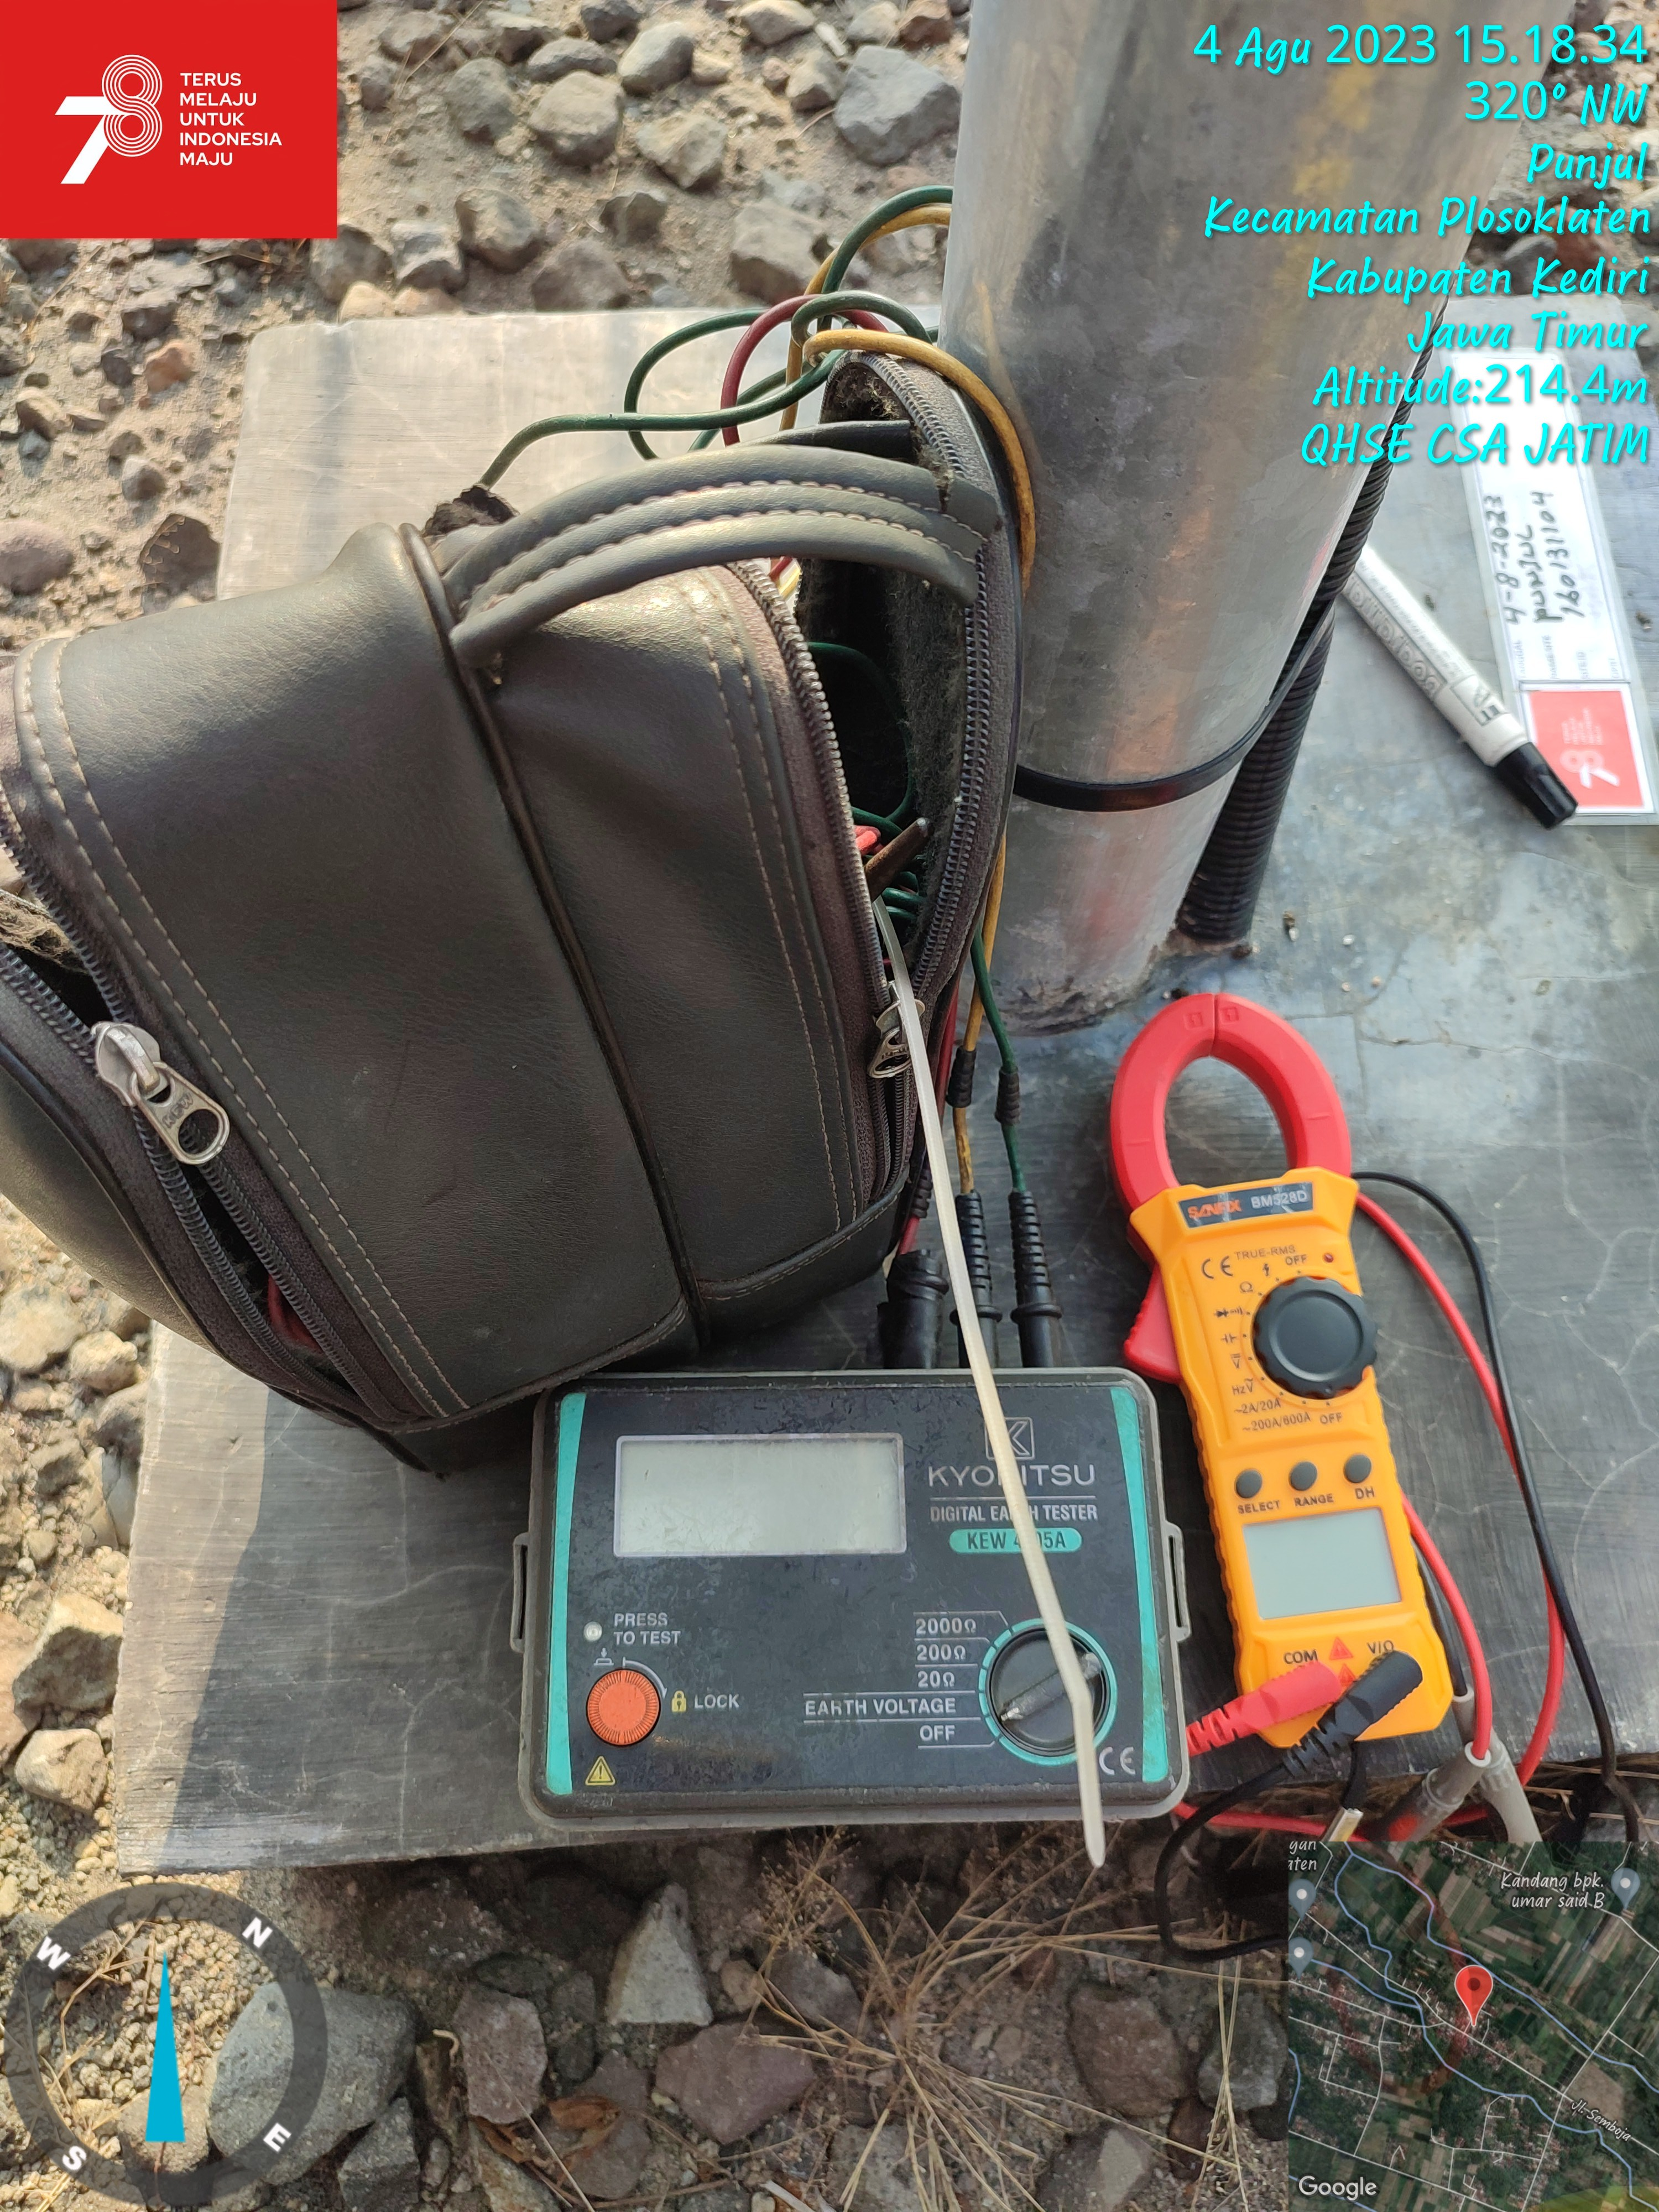EARTH_GROUNDING_TESTER: (525, 1366, 1190, 1825)
TANG_AMPERE: (1126, 986, 1459, 1749)
